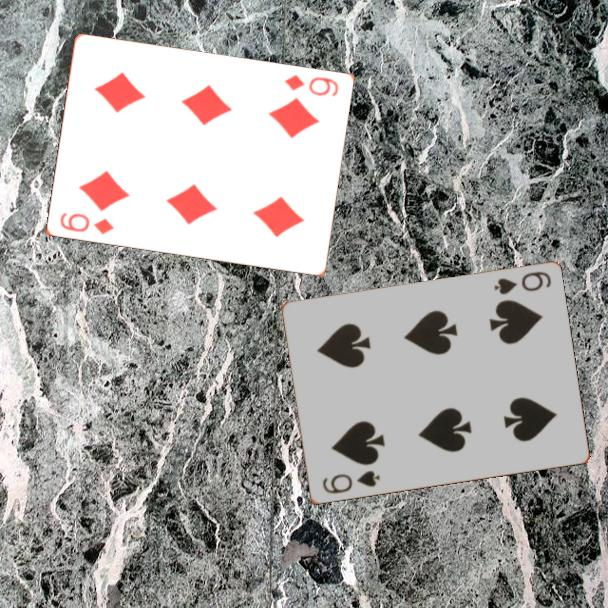d06: (56, 209, 116, 238), (280, 72, 341, 99)
s06: (319, 467, 383, 497), (490, 268, 554, 298)
